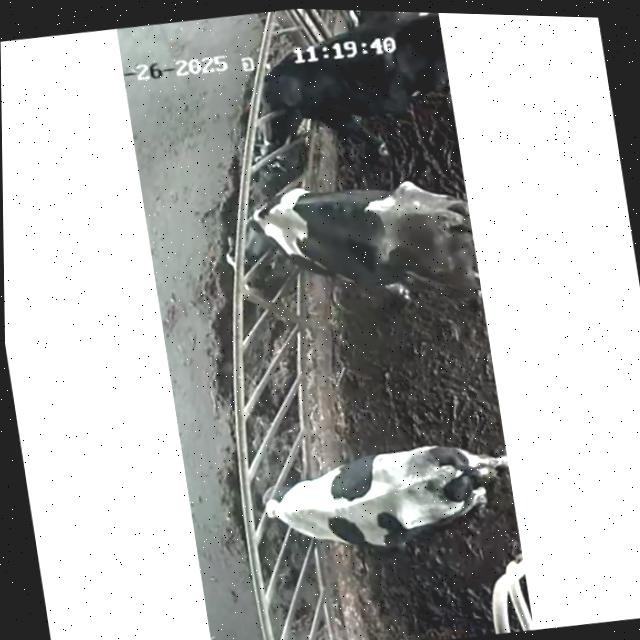eat: (189, 431, 383, 582), (169, 164, 370, 292), (189, 21, 373, 148)
